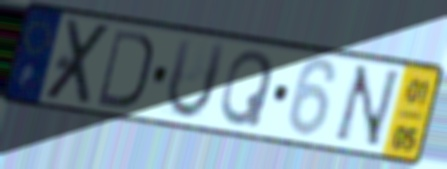6: (284, 55, 342, 143)
D: (94, 25, 156, 112)
N: (328, 62, 404, 152)
Q: (217, 48, 278, 130)
U: (163, 35, 229, 122)
X: (40, 17, 116, 107)
